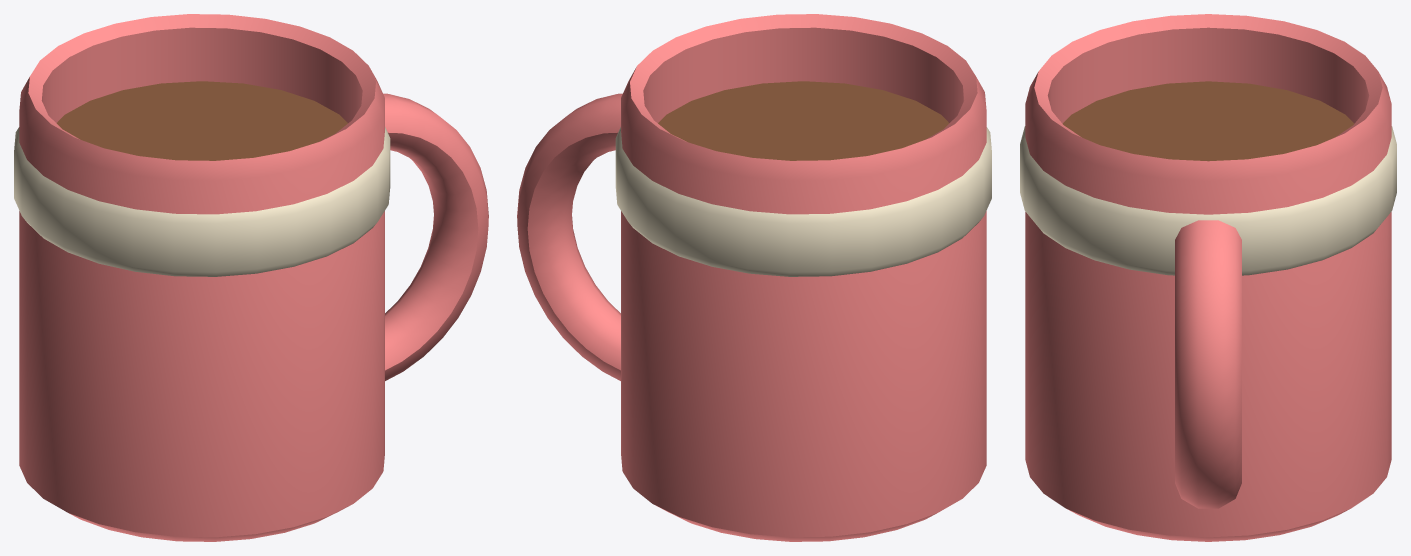
File: mug.glb
3 views of the same model, side by side, from view 1: azimuth 30°, elevation 25°; view 2: azimuth 150°, elevation 25°; view 3: azimuth 270°, elevation 25° (orthographic).
Parts seen in each view (by area): view 1: ceramic, ceramic_band, coffee; view 2: ceramic, ceramic_band, coffee; view 3: ceramic, ceramic_band, coffee.
Part boxes in pixels (x1,y1,x2,y2): ceramic: (19, 14, 488, 541); ceramic_band: (14, 127, 390, 276); coffee: (56, 81, 347, 160); ceramic: (517, 14, 986, 541); ceramic_band: (615, 127, 991, 276); coffee: (658, 81, 949, 160); ceramic: (1025, 14, 1391, 541); ceramic_band: (1020, 126, 1396, 275); coffee: (1062, 81, 1354, 161).
Bounding box in the file's own units: 0.1149 × 0.095 × 0.0844.
